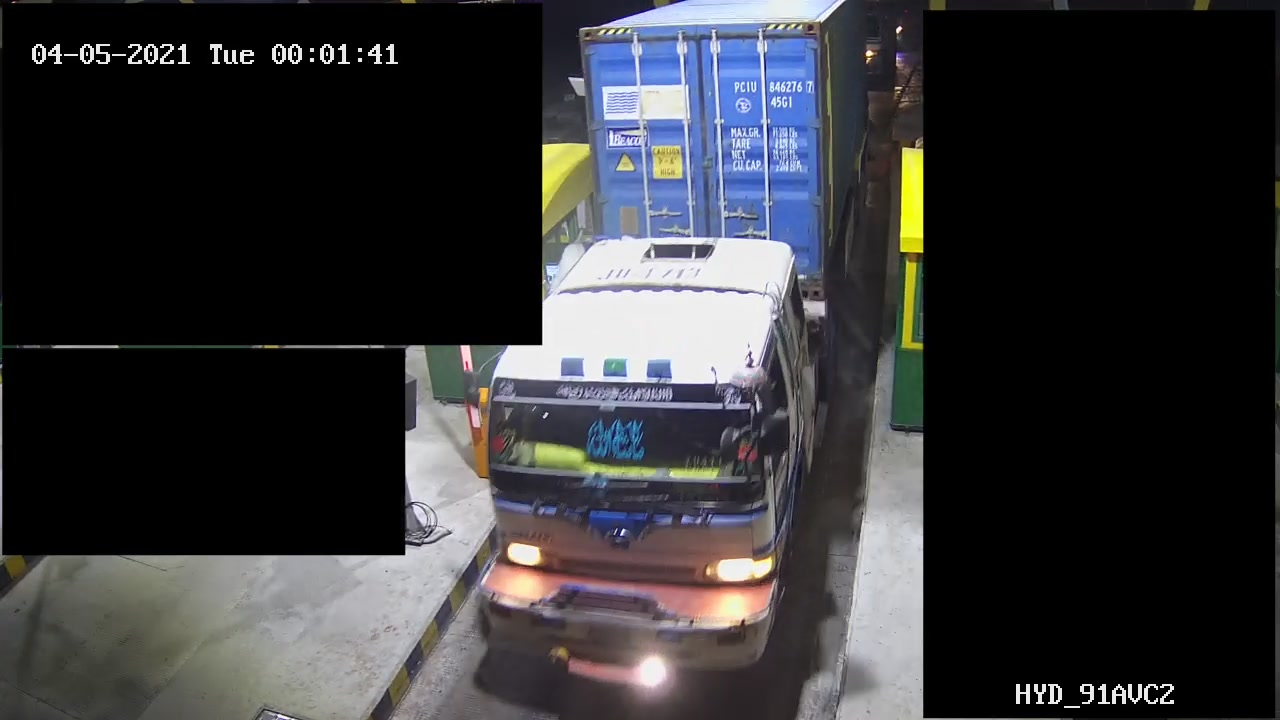F6: (463, 1, 868, 701)
